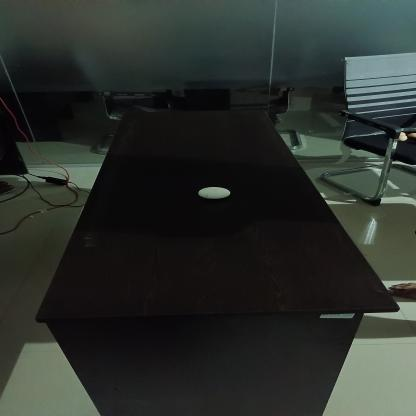egg: (195, 186, 231, 200)
